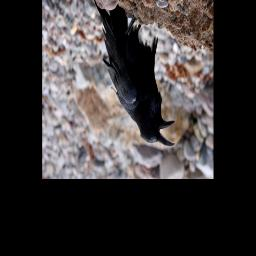Crow: (92, 0, 175, 146)
